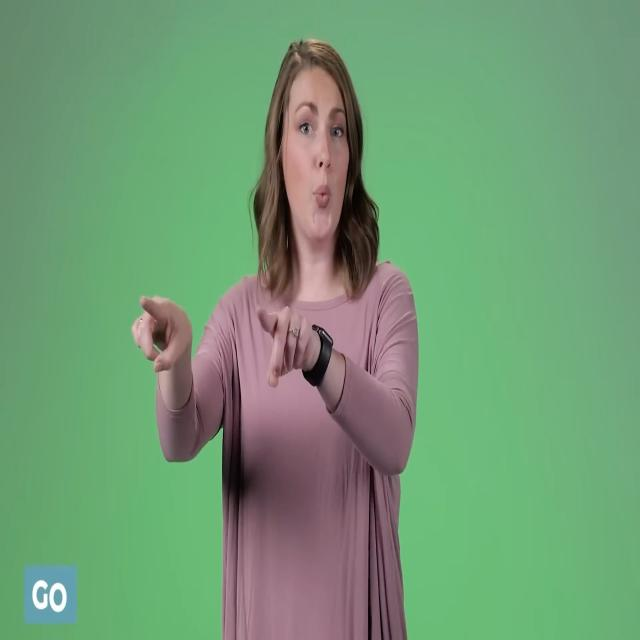go: (114, 266, 349, 408)
